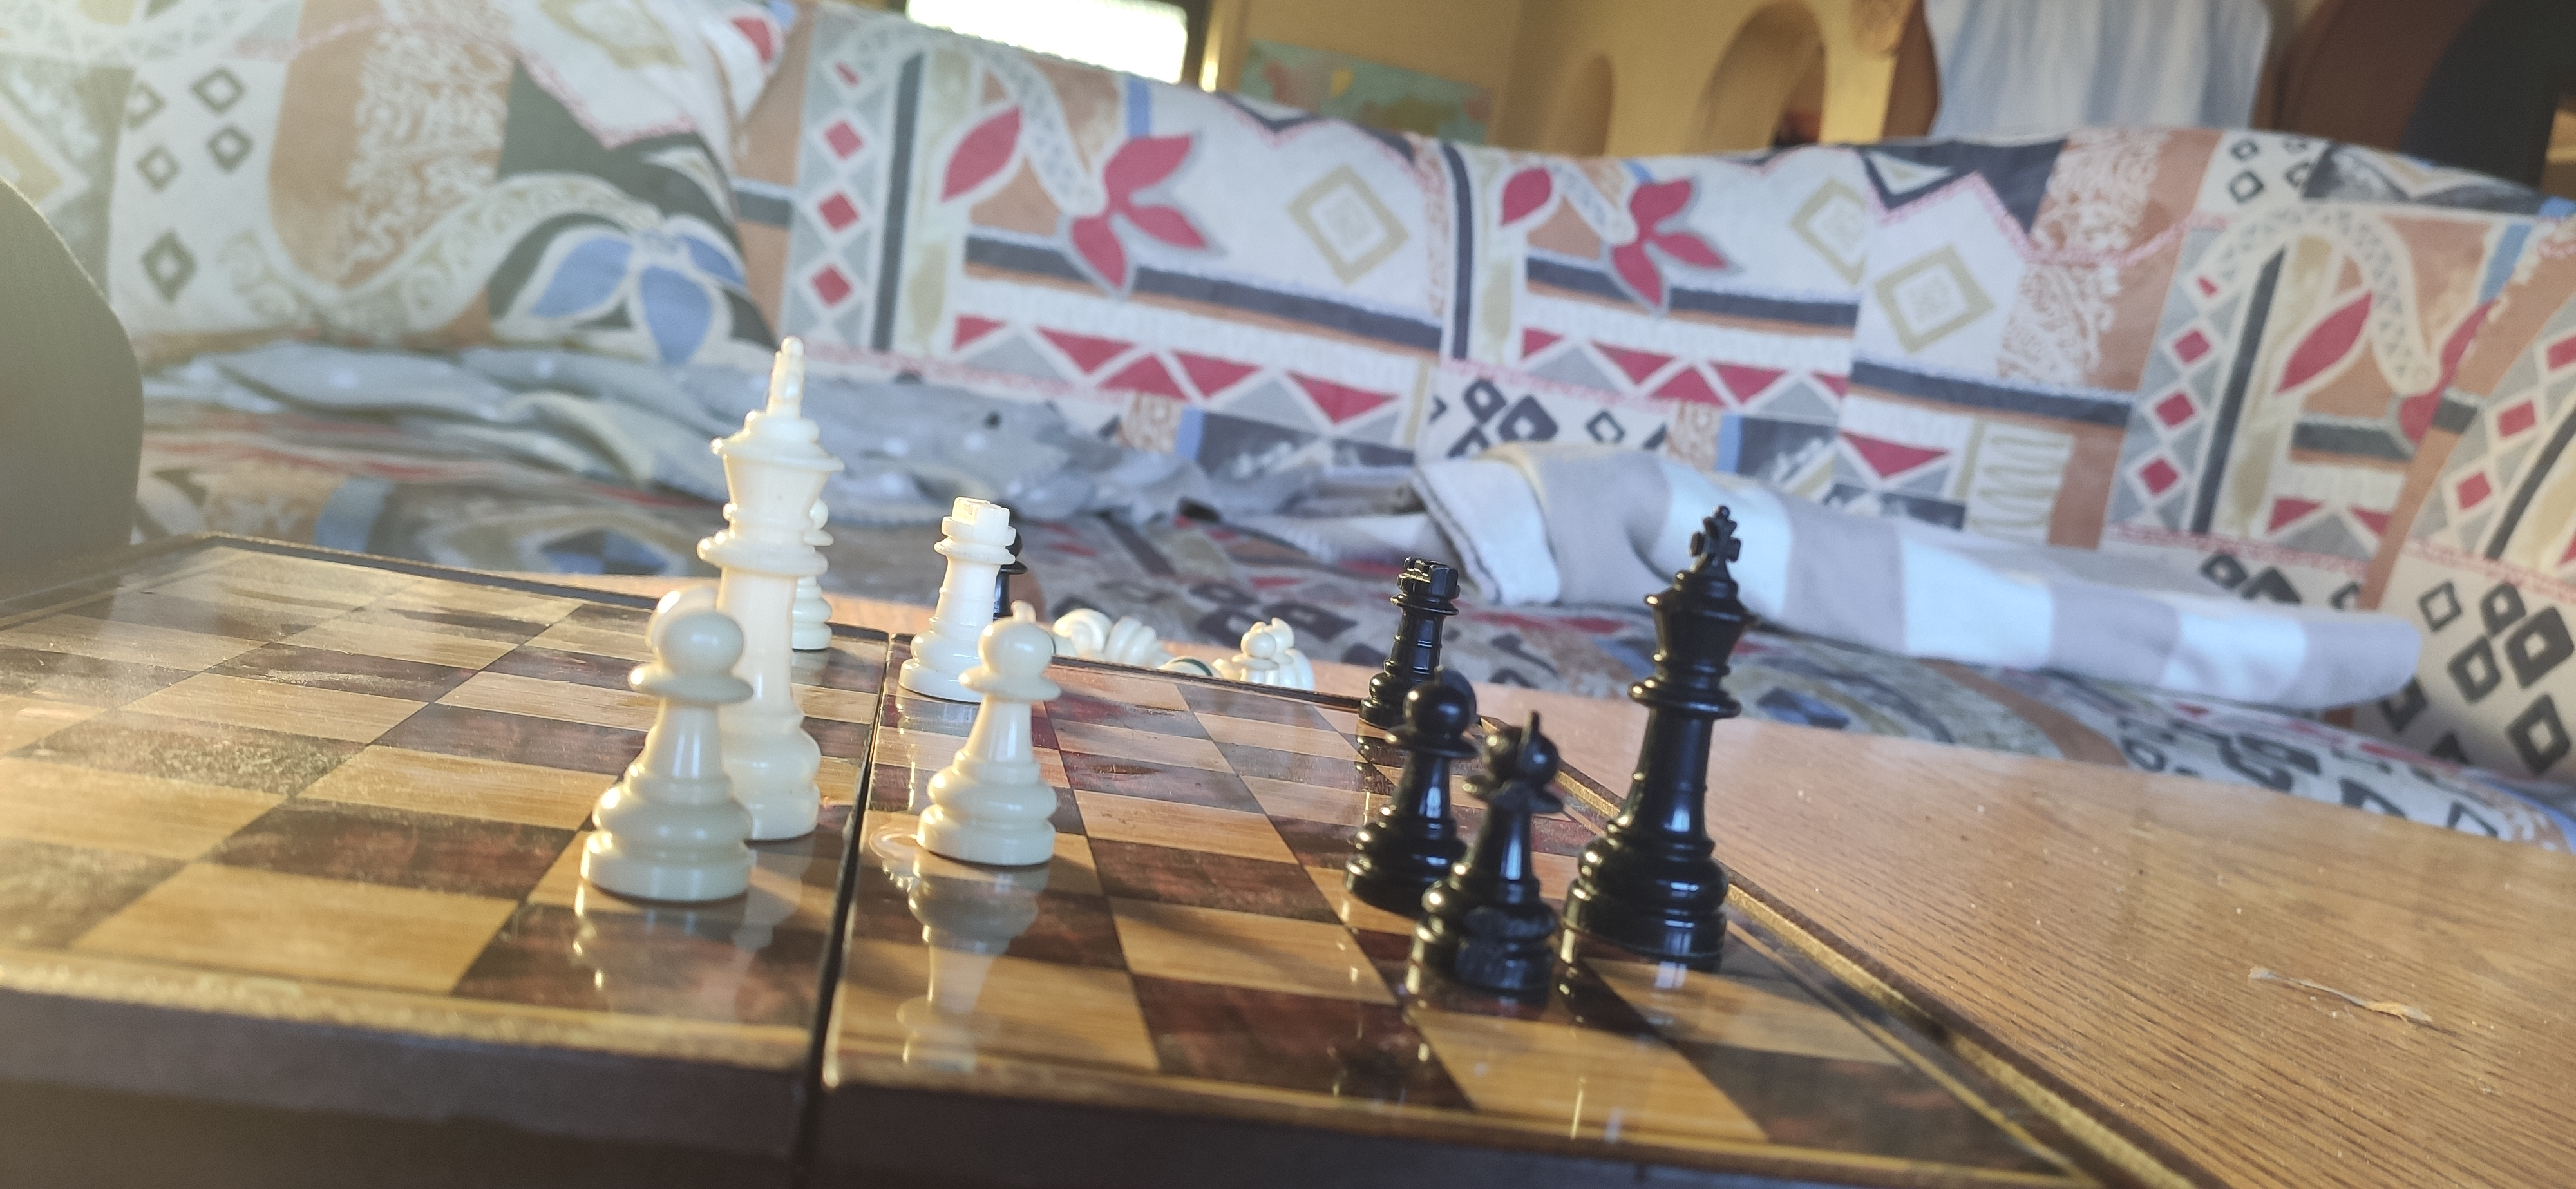BK: (1579, 466, 1763, 969)
BP: (1439, 706, 1569, 974), (1354, 682, 1470, 905)
BR: (1368, 542, 1459, 726)
WK: (713, 317, 844, 841)
WP: (583, 606, 756, 905), (918, 608, 1058, 874), (798, 493, 836, 647)
WR: (890, 488, 1014, 672)
